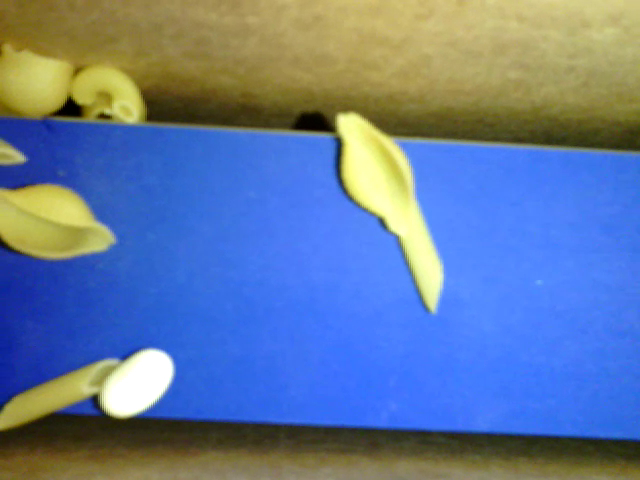elbow: (70, 65, 140, 122)
penne: (1, 358, 121, 431), (398, 197, 443, 315)
shell: (335, 112, 413, 237), (1, 183, 116, 259), (1, 42, 72, 117), (84, 93, 145, 123)
